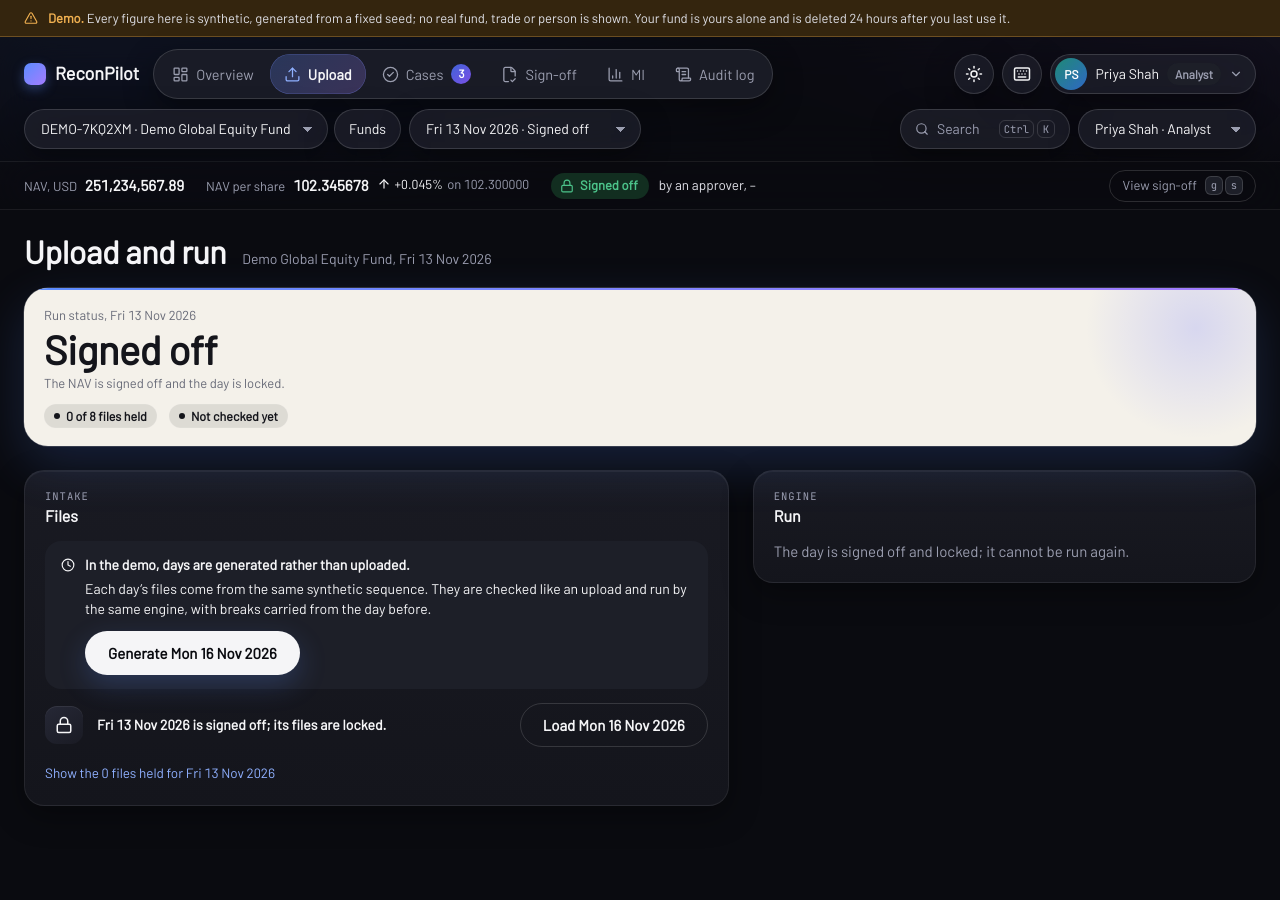
demo › generates the next business day and follows its run
The width and height of the screenshot is (1280, 900).
Click the button "Generate Mon 16 Nov 2026" at (192, 653), box [85,631,300,675]
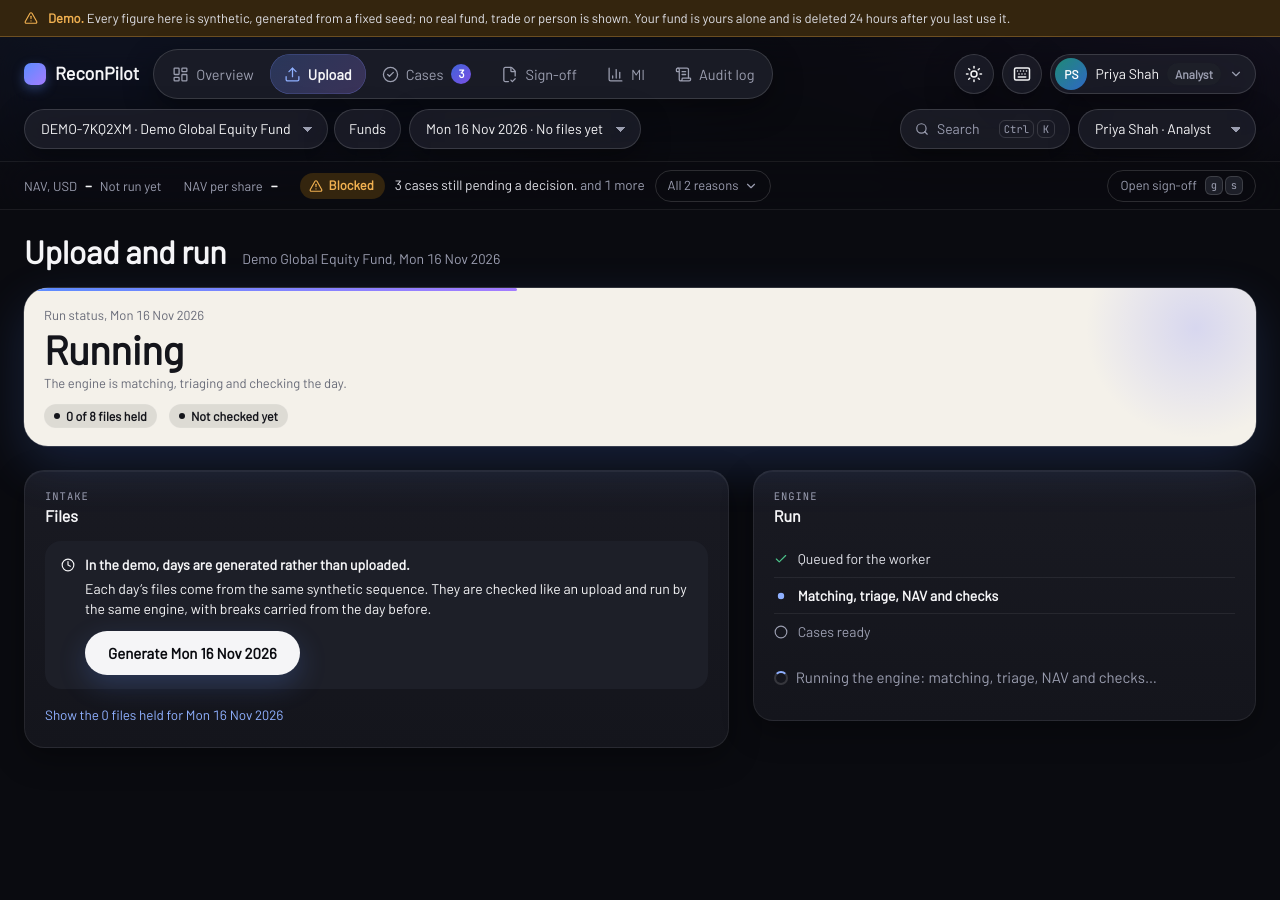
Now the list named "Run progress" is shown, box [774,541,1235,649]
